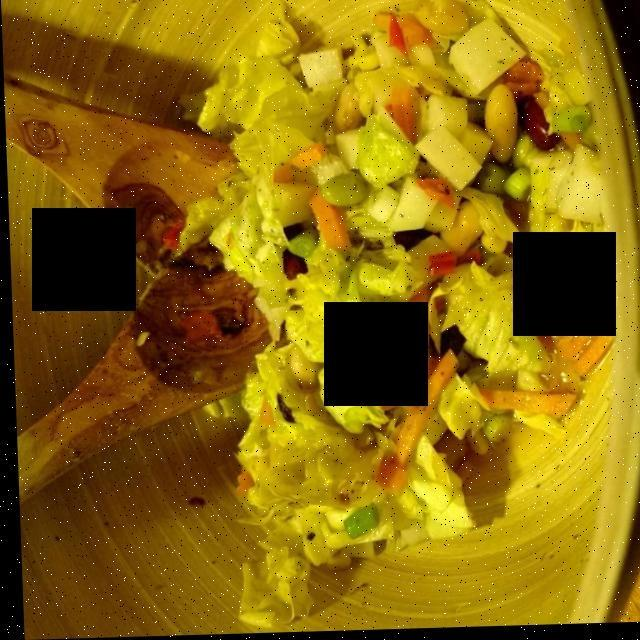beans: (409, 12, 522, 255)
carrot: (295, 139, 608, 491)
kolhrabi: (337, 4, 517, 259)
salad: (210, 10, 566, 618)
